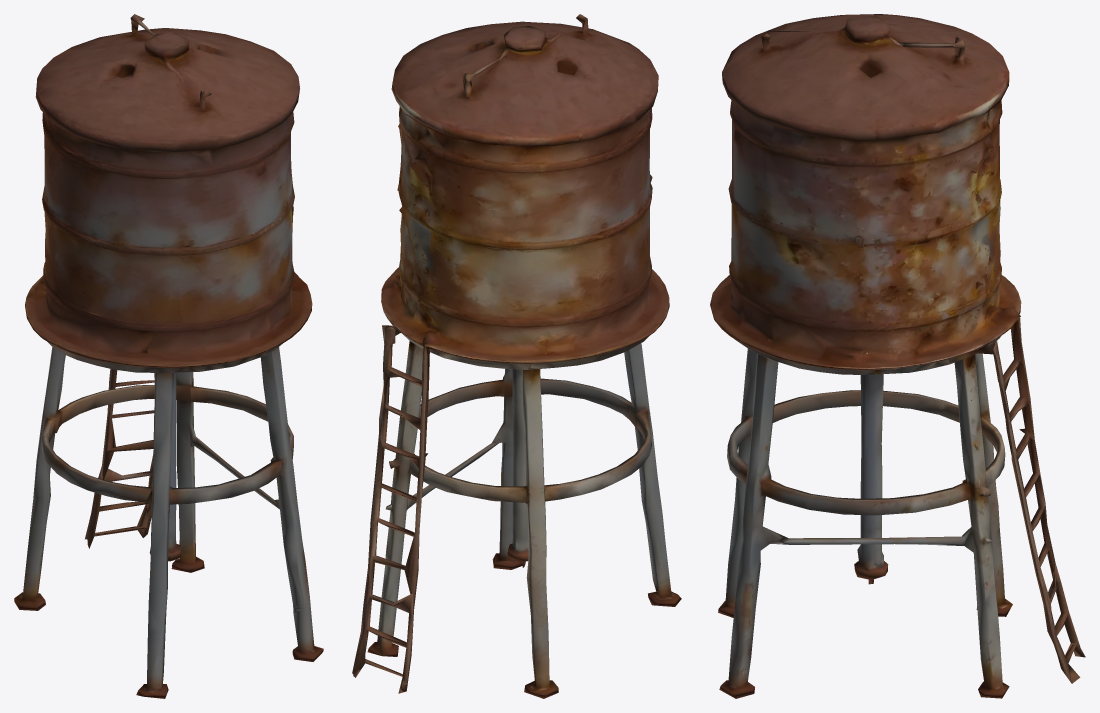
Rendered from water_tank.glb.
3 views of the same model, side by side, from view 1: azimuth 30°, elevation 25°; view 2: azimuth 150°, elevation 25°; view 3: azimuth 270°, elevation 25° (orthographic). The views are drawn at different scales.
Parts seen in each view (by area): view 1: tripo_node_7d7b9d5e-7e27-4002-bcf9-22461fe791dc; view 2: tripo_node_7d7b9d5e-7e27-4002-bcf9-22461fe791dc; view 3: tripo_node_7d7b9d5e-7e27-4002-bcf9-22461fe791dc.
Part boxes in pixels (x1,y1,x2,y2): tripo_node_7d7b9d5e-7e27-4002-bcf9-22461fe791dc: (14,14,323,698); tripo_node_7d7b9d5e-7e27-4002-bcf9-22461fe791dc: (352,14,681,698); tripo_node_7d7b9d5e-7e27-4002-bcf9-22461fe791dc: (710,14,1085,698).
Bounding box in the file's own units: 0.4478 × 1 × 0.544.
Materials: 1 (1 with a texture image).
